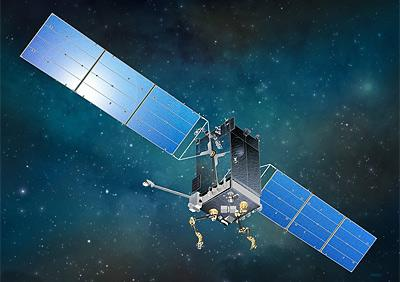antenna: (141, 177, 192, 200)
body: (194, 115, 264, 230)
solar: (18, 10, 203, 157), (252, 167, 379, 275)
